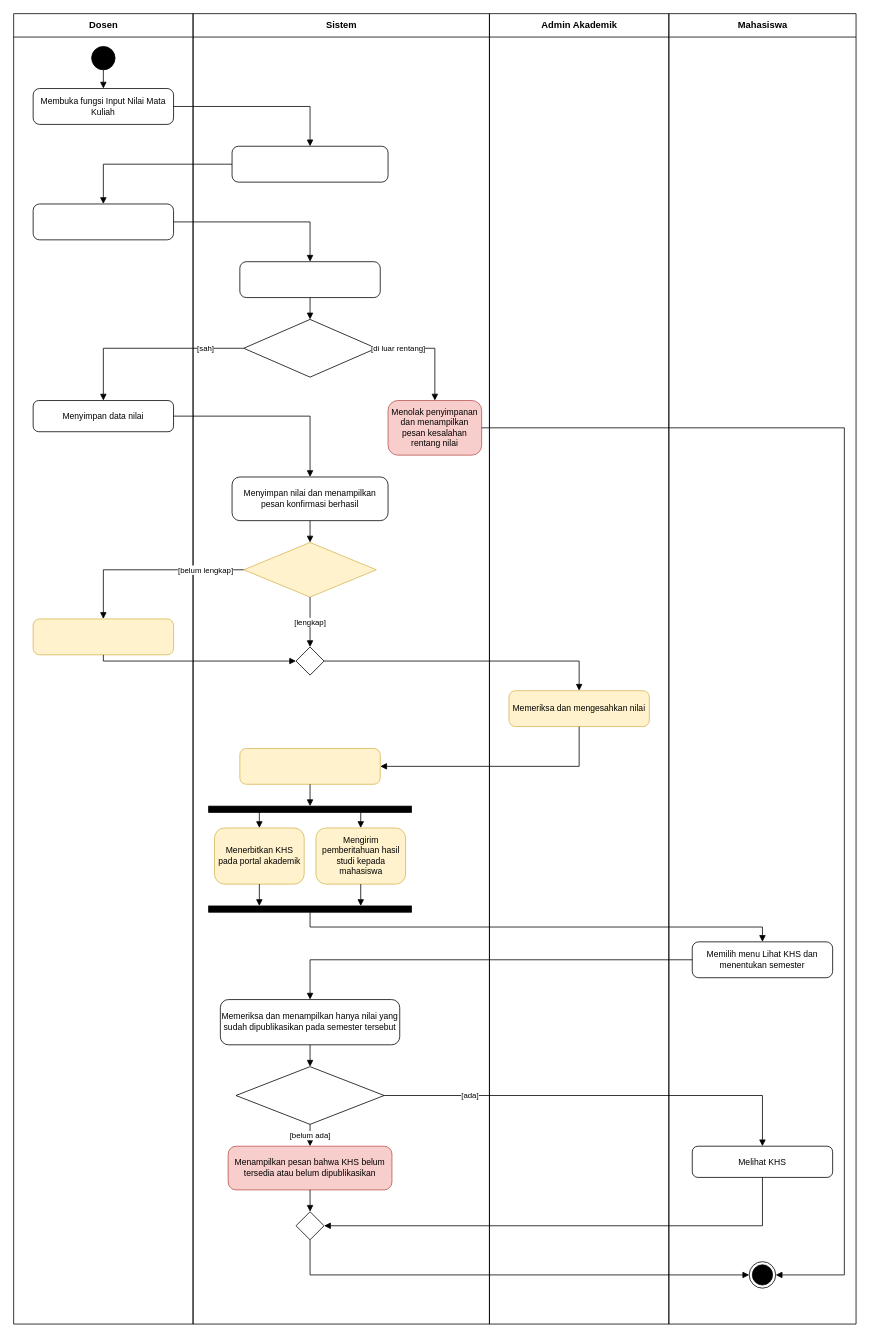
The diagram is 870 pixels wide and 1338 high, and some of its shapes have lost their labels. The centre of each missing label's shape, as x and y in pixels:
Ada nilai yang dipublikasikan?: the point at 309,1095
Melengkapi nilai mata kuliah yang belum lengkap: the point at 103,636
Memeriksa validitas rentang nilai mahasiswa: the point at 309,279
Memilih mata kuliah dan mengisi nilai mahasiswa: the point at 103,221
Menampilkan daftar mata kuliah yang diampu dosen tersebut: the point at 309,163
Menyiapkan publikasi hasil studi: the point at 309,766
Nilai dalam rentang yang sah?: the point at 309,348
Nilai sudah lengkap?: the point at 309,569
